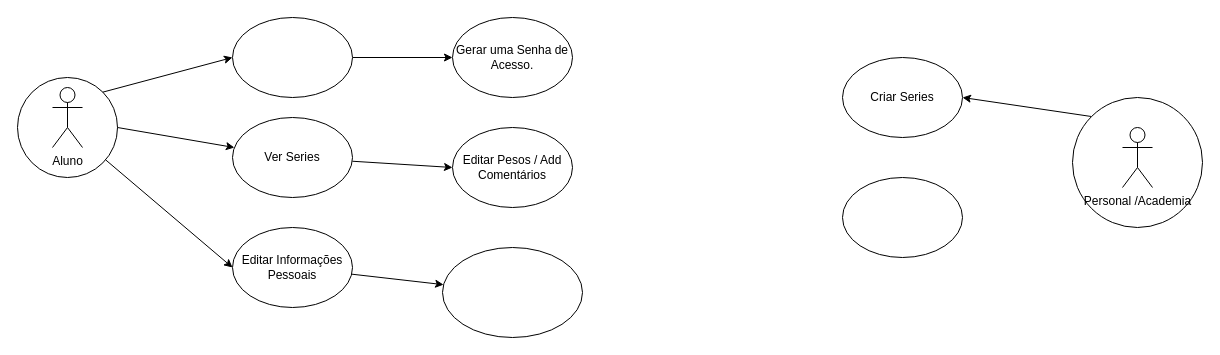
The diagram is 1220 pixels wide and 355 high, and some of its shapes have lost their labels. The centre of each missing label's shape, as x and y in pixels:
Cadastrar: [292,57]
Editar Informações Profissionais Aluno: [902,217]
Modificar informações pessoais: [512,292]
